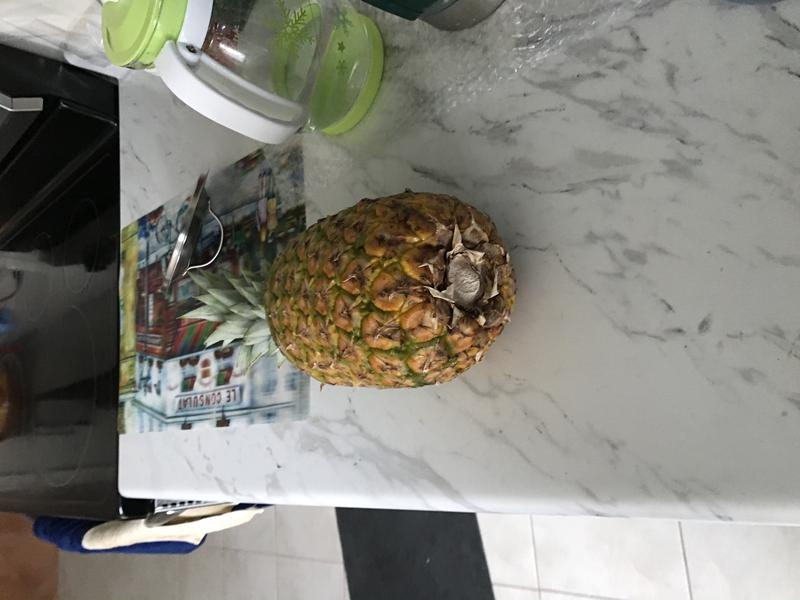pineapple: (155, 183, 519, 393)
